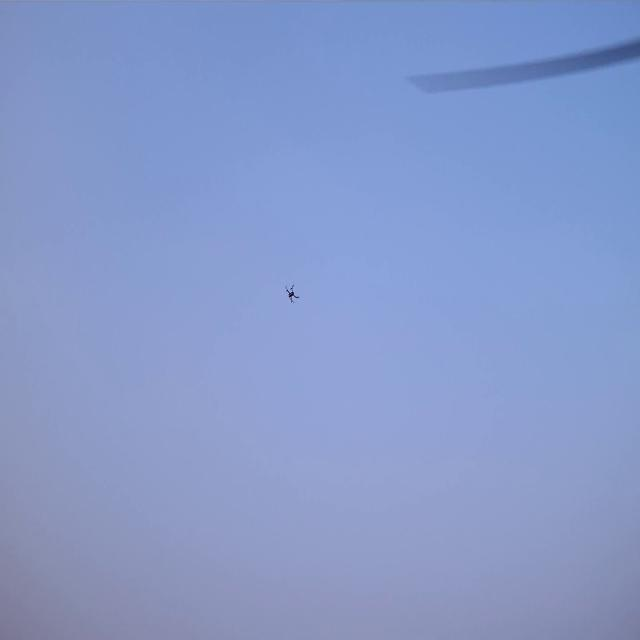UAV: (286, 288, 298, 302)
